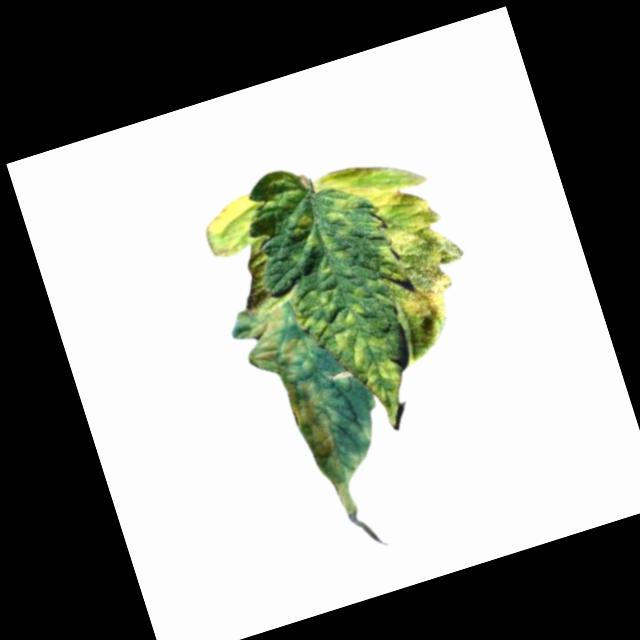Leaf_Mold: (191, 125, 529, 536)
